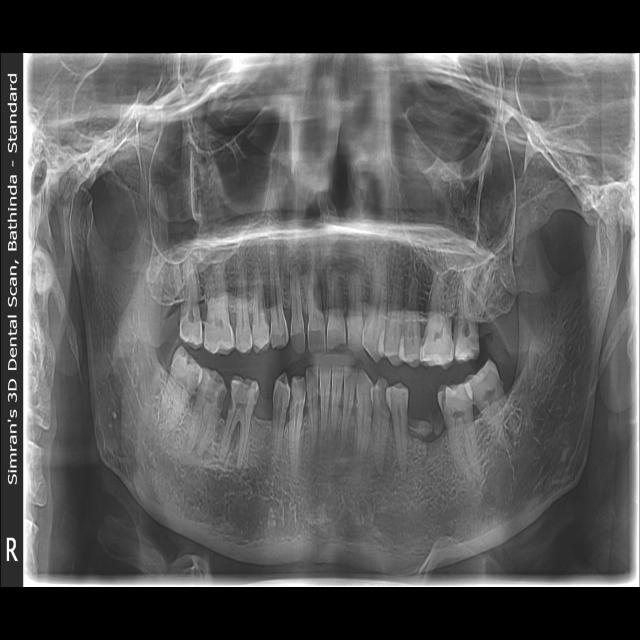Caries: (378, 377, 392, 416), (215, 390, 226, 415), (437, 389, 447, 411), (468, 336, 478, 356), (228, 388, 233, 417), (287, 399, 291, 427)
Mandibular Canal: (109, 347, 277, 524), (443, 395, 583, 562)
Missing teeth: (254, 382, 275, 425)
Periapical lesion: (308, 413, 324, 466), (195, 438, 215, 469), (374, 458, 394, 488)
Root Piece: (406, 408, 444, 444)
maxillary sinus: (146, 109, 283, 266), (387, 117, 517, 275)
